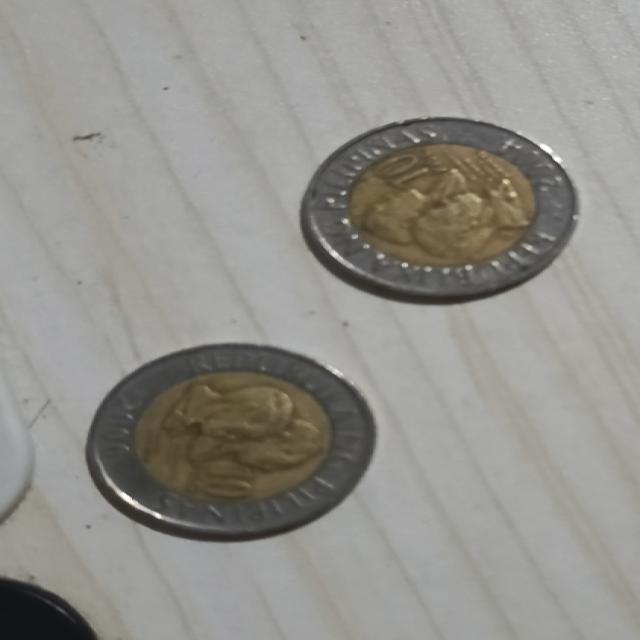10_peso: (88, 343, 375, 540), (300, 117, 576, 299)
